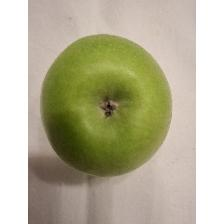Apfel: (38, 32, 174, 180)
